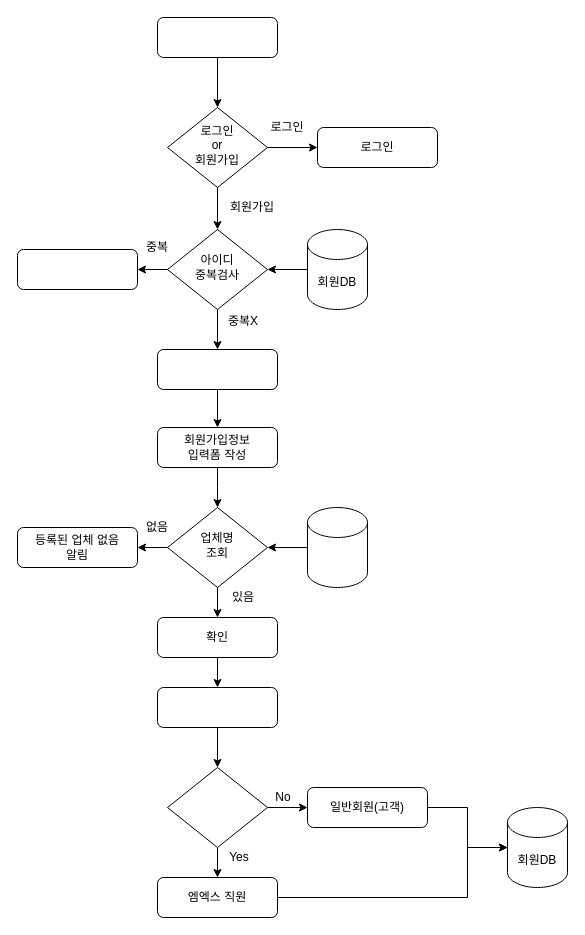
This 585x935 diagram has some shape labels left out. Here are the shapes that lost their labels. From the top down, the centre of each, then its label:
At pixel 217 37: "사이트 접근 (start)".
At pixel 77 269: "아이디 사용불가 알림".
At pixel 217 369: "아이디 사용 허용".
At pixel 337 547: "업체DB".
At pixel 217 707: "가입완료".
At pixel 217 807: "직원권한 부여".
